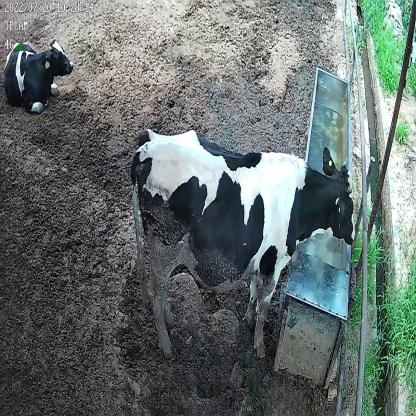cow: (129, 123, 356, 360), (4, 31, 76, 115)
